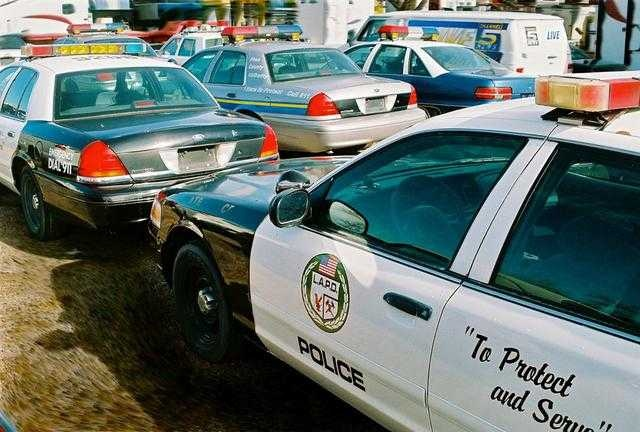Police Car: (145, 77, 640, 432), (5, 10, 234, 238), (198, 24, 402, 175), (352, 12, 505, 119)
